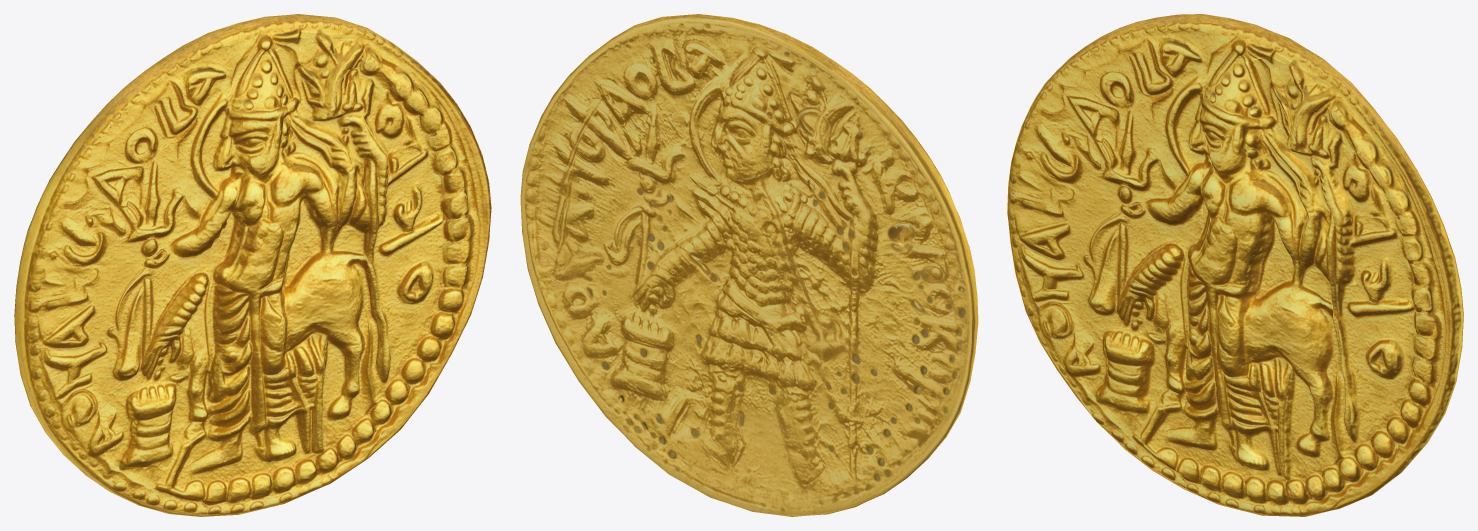
The model's file is Kushontangasi-v1.glb.
3 renders of one model, left to right at view 1: azimuth 30°, elevation 25°; view 2: azimuth 150°, elevation 25°; view 3: azimuth 330°, elevation 25°, orthographic.
Parts seen in each view (by area): view 1: Mesh0; view 2: Mesh0; view 3: Mesh0.
Boxes of the visible parts, box(x1,y1,x2,y2) form: Mesh0: box(14, 14, 491, 516); Mesh0: box(520, 14, 978, 516); Mesh0: box(1007, 14, 1463, 516).
Bounding box in the file's own units: 1.89 × 1.9 × 0.1697.
Materials: 1 (1 with a texture image).
